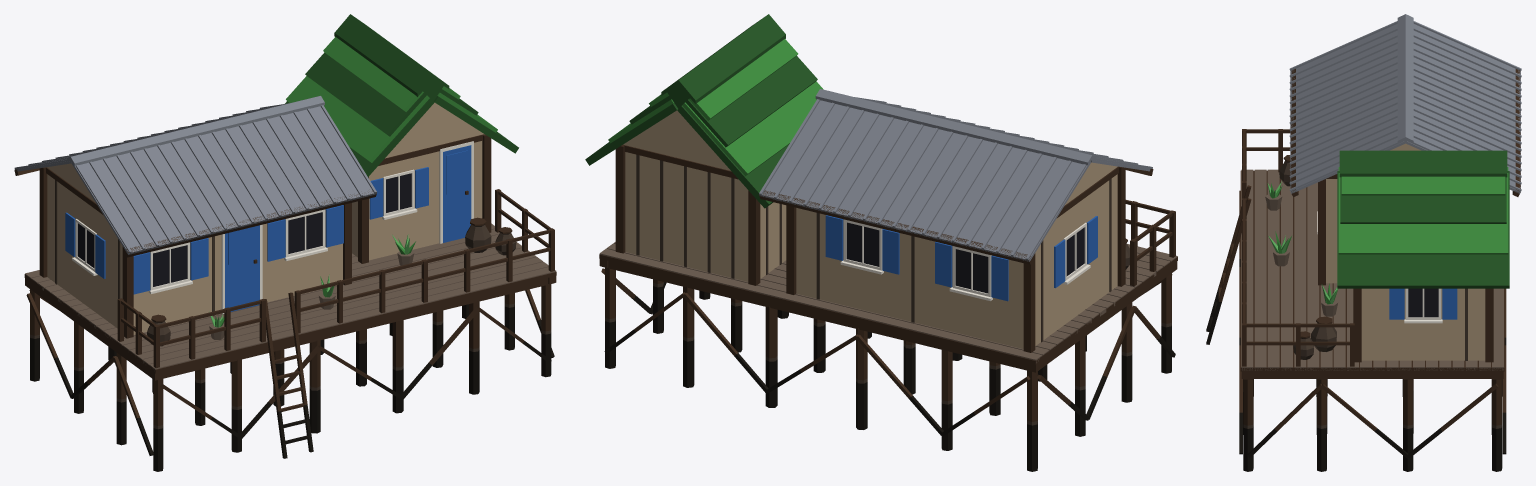
File: stilt_houses.glb
The picture shows the model from 3 angles, left to right: view 1: azimuth 30°, elevation 25°; view 2: azimuth 150°, elevation 25°; view 3: azimuth 270°, elevation 25°; orthographic projection. The views are drawn at different scales.
Parts seen in each view (by area): view 1: tin_roof-mid-grey, platform-muddy-brown-light, main_house-bright-boat-colours, piles-dark-wood, openings-sky-blue, thatch_roof-palm-green-dark, piles-muddy-brown-dark, railing-dark-wood, annex-bright-boat-colours, thatch_roof-palm-green, openings-warm-white, openings-soot-black (+9 smaller); view 2: tin_roof-mid-grey, main_house-bright-boat-colours, annex-bright-boat-colours, piles-dark-wood, thatch_roof-palm-green-dark, piles-muddy-brown-dark, platform-muddy-brown-light, thatch_roof-palm-green, openings-sky-blue, main_house-dark-wood, annex-dark-wood, openings-soot-black (+7 smaller); view 3: tin_roof-mid-grey, thatch_roof-palm-green-dark, platform-muddy-brown-light, thatch_roof-palm-green, annex-bright-boat-colours, piles-dark-wood, platform-dark-wood, railing-dark-wood, piles-muddy-brown-dark, main_house-bright-boat-colours, annex-dark-wood, openings-sky-blue (+8 smaller).
Boxes of the visible parts, x1=… form: tin_roof-mid-grey: x1=14, y1=96, x2=376, y2=254; platform-muddy-brown-light: x1=25, y1=223, x2=556, y2=371; main_house-bright-boat-colours: x1=47, y1=163, x2=342, y2=334; piles-dark-wood: x1=25, y1=276, x2=556, y2=425; openings-sky-blue: x1=65, y1=145, x2=471, y2=311; thatch_roof-palm-green-dark: x1=285, y1=14, x2=518, y2=176; piles-muddy-brown-dark: x1=30, y1=304, x2=554, y2=471; railing-dark-wood: x1=117, y1=189, x2=554, y2=368; annex-bright-boat-colours: x1=352, y1=102, x2=484, y2=260; thatch_roof-palm-green: x1=286, y1=37, x2=497, y2=162; openings-warm-white: x1=72, y1=141, x2=473, y2=314; openings-soot-black: x1=77, y1=173, x2=411, y2=286; tin_roof-mid-grey: x1=759, y1=89, x2=1152, y2=261; main_house-bright-boat-colours: x1=796, y1=162, x2=1117, y2=348; annex-bright-boat-colours: x1=623, y1=110, x2=786, y2=281; piles-dark-wood: x1=599, y1=259, x2=1177, y2=421; thatch_roof-palm-green-dark: x1=585, y1=14, x2=817, y2=208; piles-muddy-brown-dark: x1=604, y1=282, x2=1175, y2=471; platform-muddy-brown-light: x1=599, y1=242, x2=1177, y2=363; thatch_roof-palm-green: x1=608, y1=39, x2=823, y2=175; openings-sky-blue: x1=825, y1=215, x2=1097, y2=301; main_house-dark-wood: x1=786, y1=166, x2=1125, y2=352; annex-dark-wood: x1=615, y1=144, x2=760, y2=285; openings-soot-black: x1=846, y1=222, x2=1084, y2=293; tin_roof-mid-grey: x1=1289, y1=14, x2=1521, y2=193; thatch_roof-palm-green-dark: x1=1337, y1=150, x2=1509, y2=288; platform-muddy-brown-light: x1=1241, y1=169, x2=1503, y2=370; thatch_roof-palm-green: x1=1338, y1=167, x2=1508, y2=254; annex-bright-boat-colours: x1=1361, y1=288, x2=1485, y2=360; piles-dark-wood: x1=1239, y1=190, x2=1506, y2=431; platform-dark-wood: x1=1240, y1=170, x2=1504, y2=371; railing-dark-wood: x1=1242, y1=129, x2=1354, y2=366; piles-muddy-brown-dark: x1=1239, y1=259, x2=1506, y2=471; main_house-bright-boat-colours: x1=1326, y1=143, x2=1420, y2=283; annex-dark-wood: x1=1353, y1=288, x2=1493, y2=362; openings-sky-blue: x1=1389, y1=288, x2=1457, y2=319.
Size of the model in its own units: 9.51 by 6.21 by 6.22.
